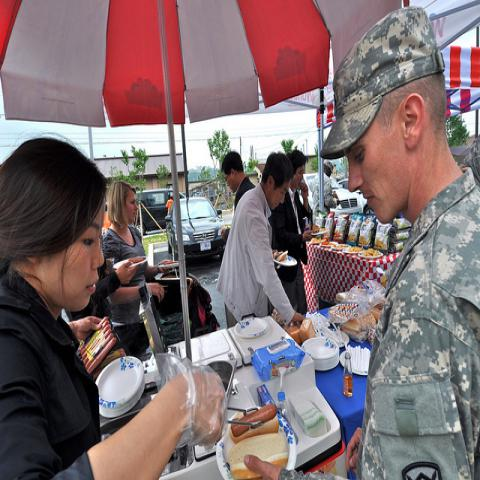car: (165, 196, 228, 266), (297, 173, 363, 222), (140, 187, 174, 234)
